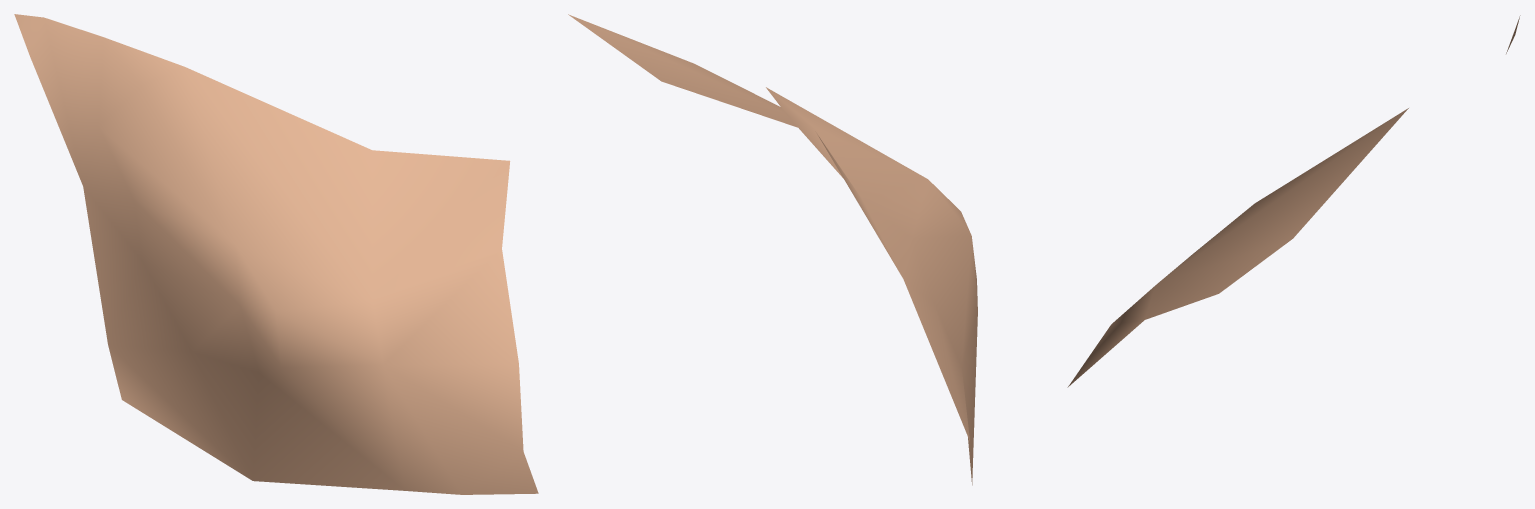
The model's file is antitragus-r.glb.
The picture shows the model from 3 angles, left to right: view 1: azimuth 30°, elevation 25°; view 2: azimuth 150°, elevation 25°; view 3: azimuth 270°, elevation 25°; orthographic projection. The views are drawn at different scales.
Parts seen in each view (by area): view 1: Antitragus.r; view 2: Antitragus.r; view 3: Antitragus.r.
Boxes of the visible parts, x1=… form: Antitragus.r: x1=14, y1=14, x2=538, y2=494; Antitragus.r: x1=568, y1=14, x2=977, y2=485; Antitragus.r: x1=1067, y1=15, x2=1520, y2=387.
Bounding box in the file's own units: 0.0108 × 0.0111 × 0.0139.
